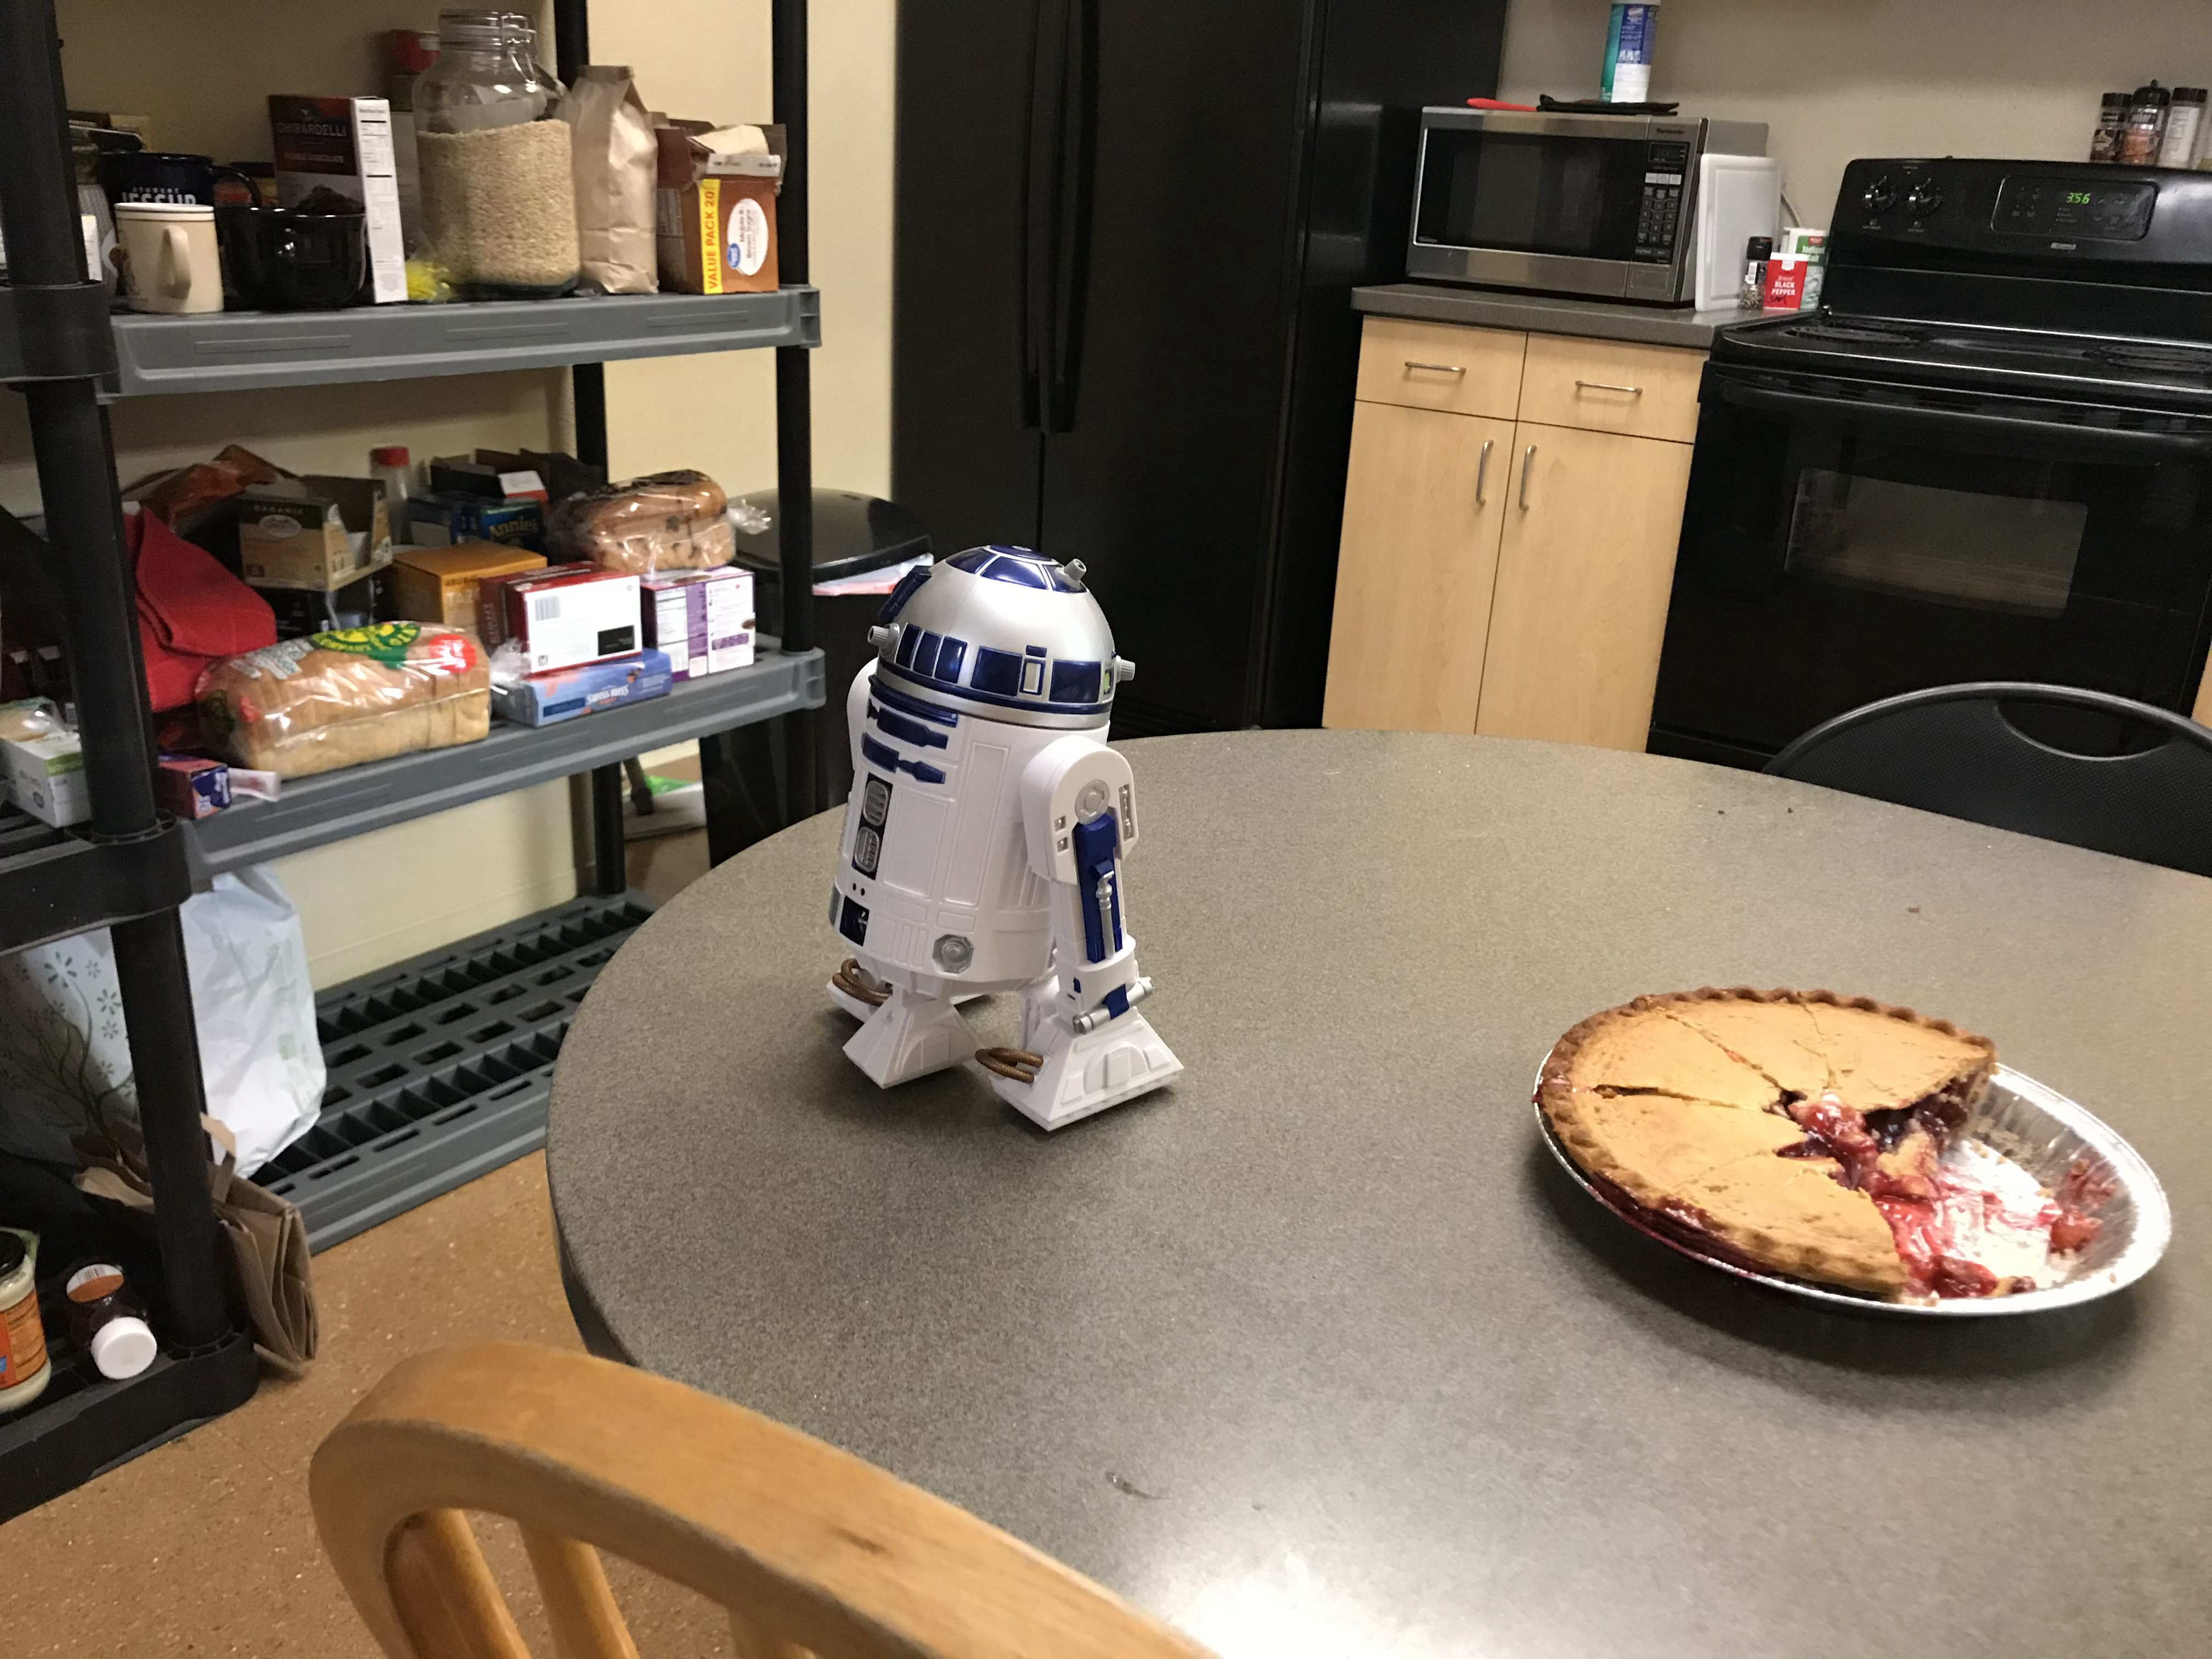r2d2: (822, 540, 1188, 1133)
